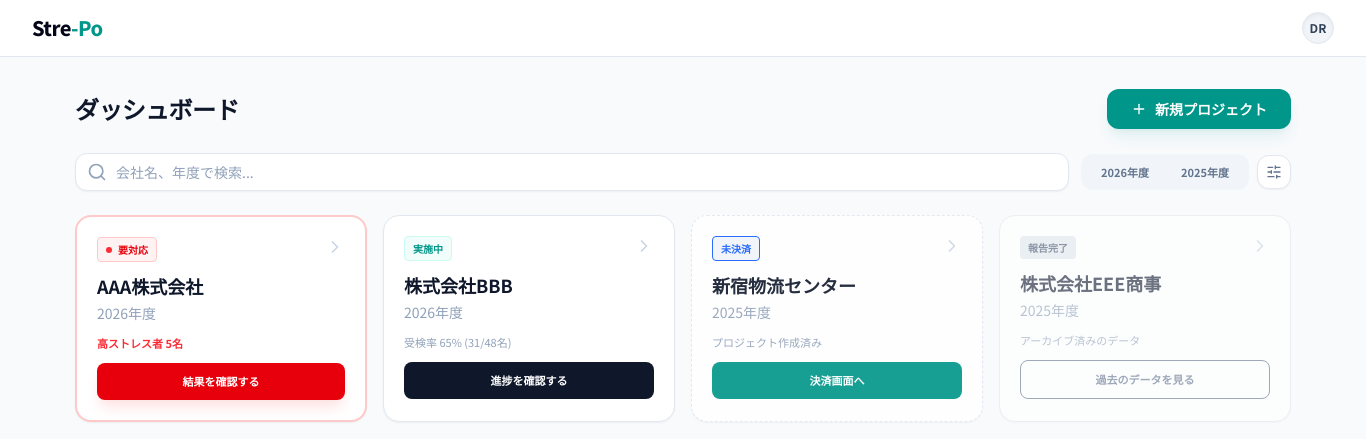
Scenario: DoctorDashboard - 年度フィルタリング › 年度ボタンをクリックすると対象年度のカードのみ表示される
Click the button "2026年度".
click(1125, 172)  # box 1085,158 -> 1165,186
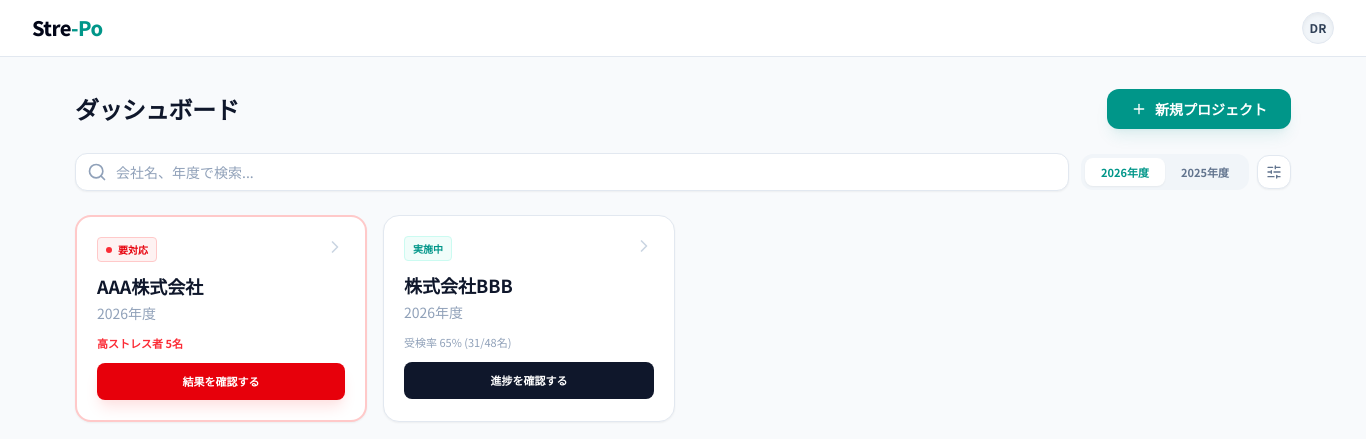
Expected: the text "AAA株式会社" is shown, 97,273 -> 203,299
Expected: the button "新宿物流センター" is gone
